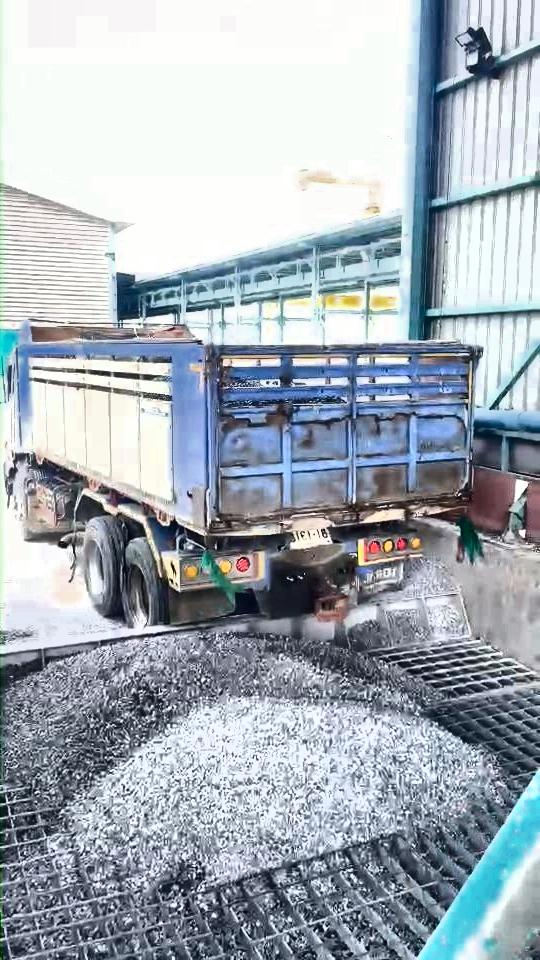gravel: (3, 632, 498, 889), (345, 558, 471, 651)
